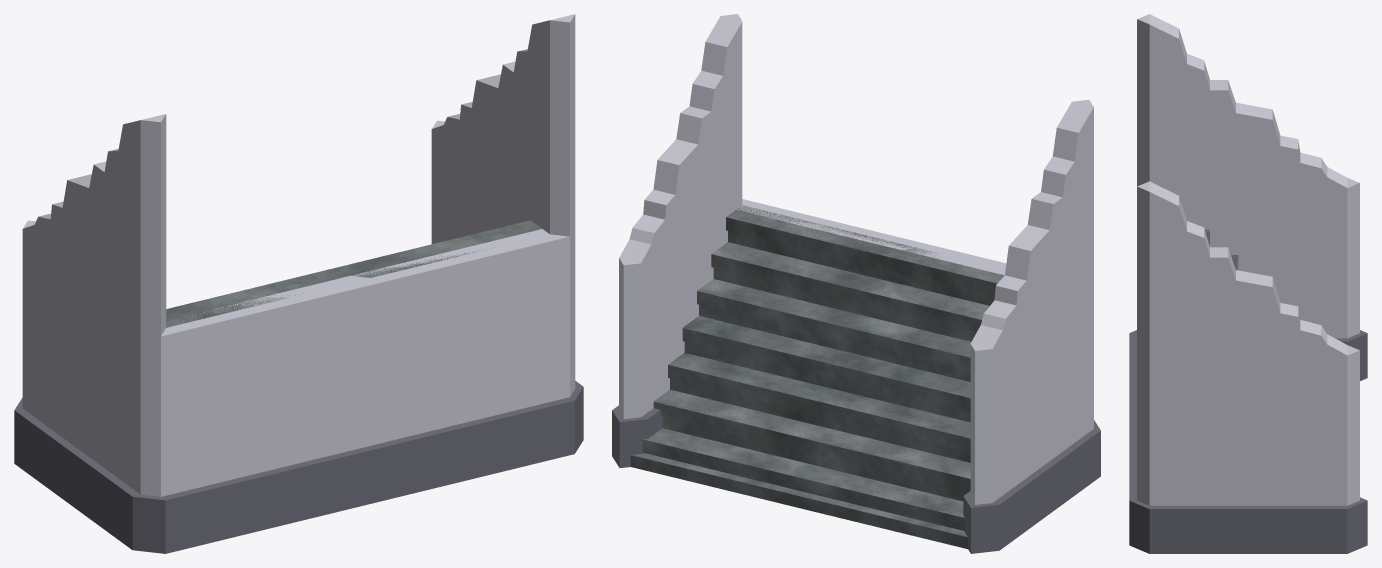
The model's file is hallway_stair_01.fbx.
3 views of the same model, side by side, from view 1: azimuth 30°, elevation 25°; view 2: azimuth 150°, elevation 25°; view 3: azimuth 270°, elevation 25° (orthographic). The views are drawn at different scales.
Parts seen in each view (by area): view 1: stairs_01_112; view 2: stairs_01_112; view 3: stairs_01_112.
Part boxes in pixels (bbox=[...]): stairs_01_112: bbox=[14, 14, 583, 553]; stairs_01_112: bbox=[612, 14, 1100, 553]; stairs_01_112: bbox=[1129, 14, 1367, 553].
Size of the model in its own units: 22.05 by 20 by 12.05.
